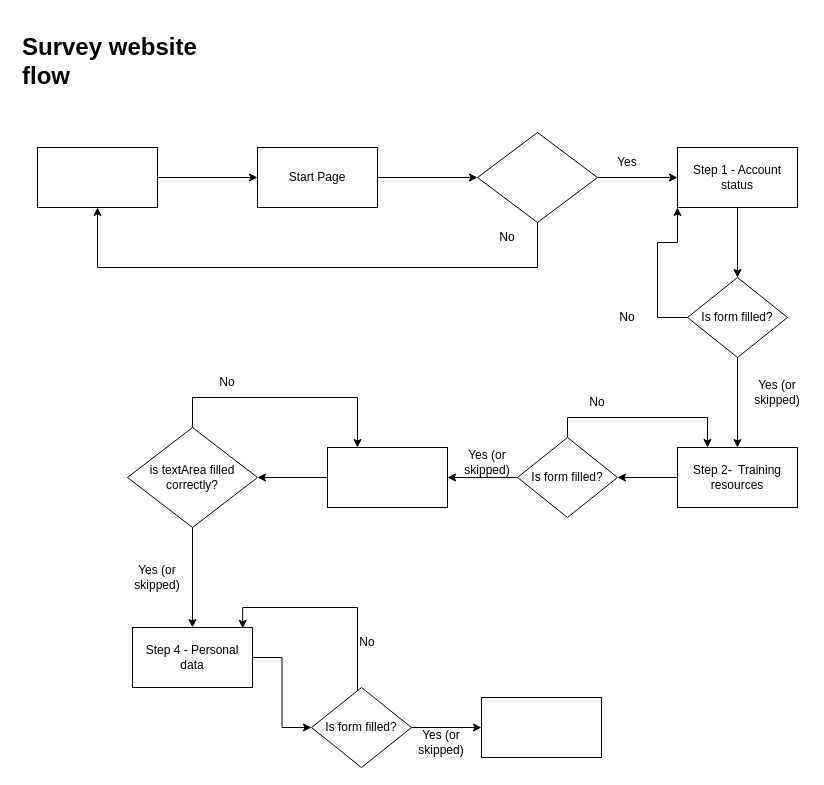
This 824x785 diagram has some shape labels left out. The centre of each missing label's shape, as x and y in pixels:
"Enter survey?" goes at pixel 537 177.
"Step 3 - investments losses" goes at pixel 387 477.
"Success page (end)" goes at pixel 541 727.
"Welcome page" goes at pixel 97 177.
